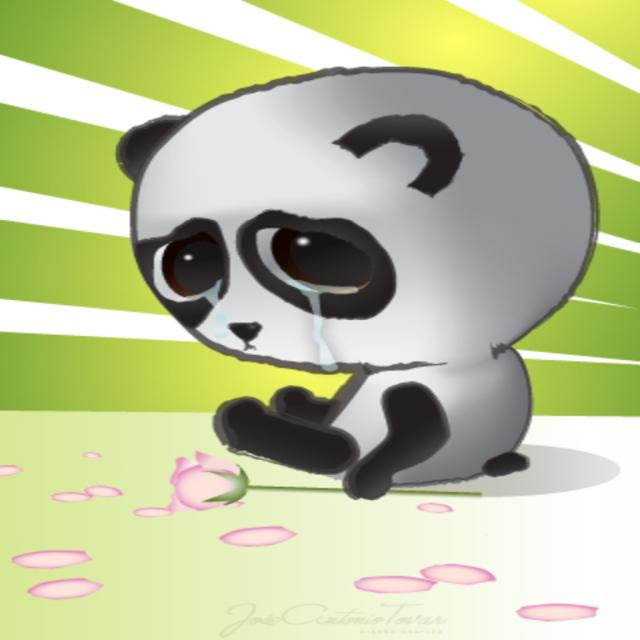panda: (110, 61, 600, 502)
